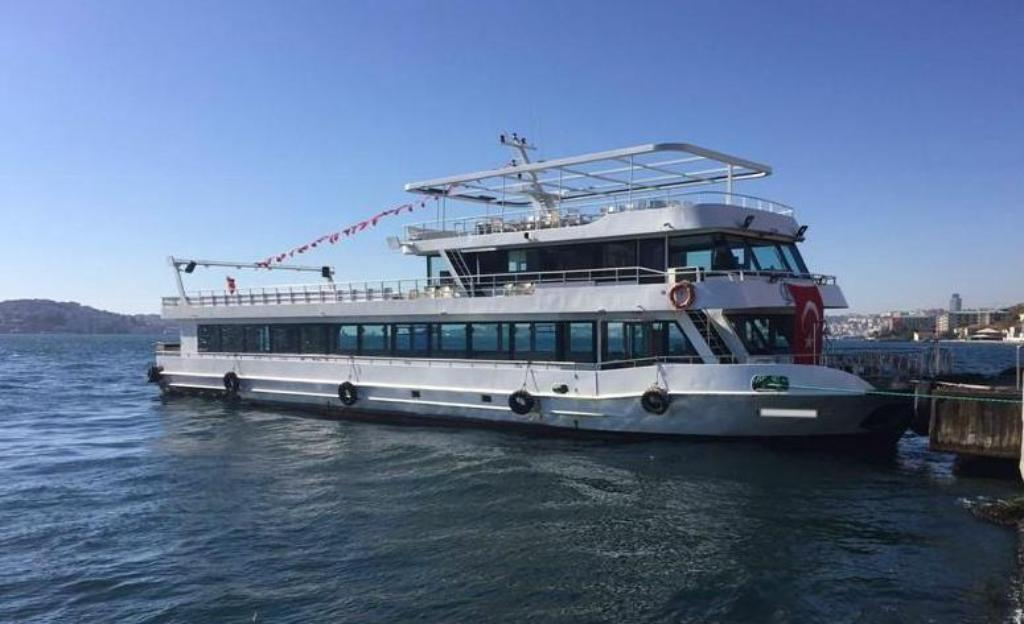PassengerShip: (133, 128, 887, 438)
